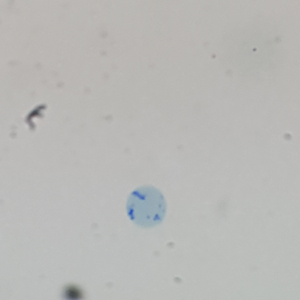aggregate reticulocyte: (124, 185, 168, 228)
